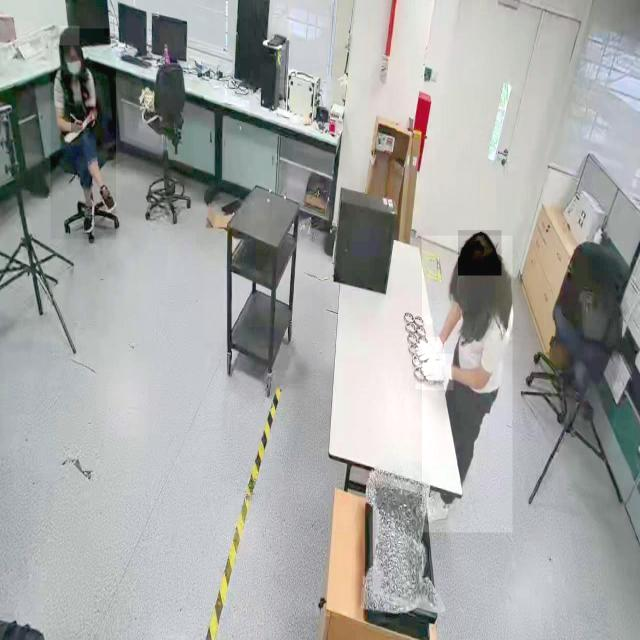face_mask: (64, 46, 82, 76)
hand_glove: (416, 354, 454, 390), (416, 337, 446, 364)
hand_noglove: (86, 107, 96, 129), (71, 116, 83, 134)
head_nohelmet: (458, 230, 502, 276), (59, 26, 80, 46)
person: (422, 236, 513, 534), (50, 28, 116, 240)
shoes: (424, 484, 450, 523), (98, 181, 119, 215), (80, 193, 96, 237)
